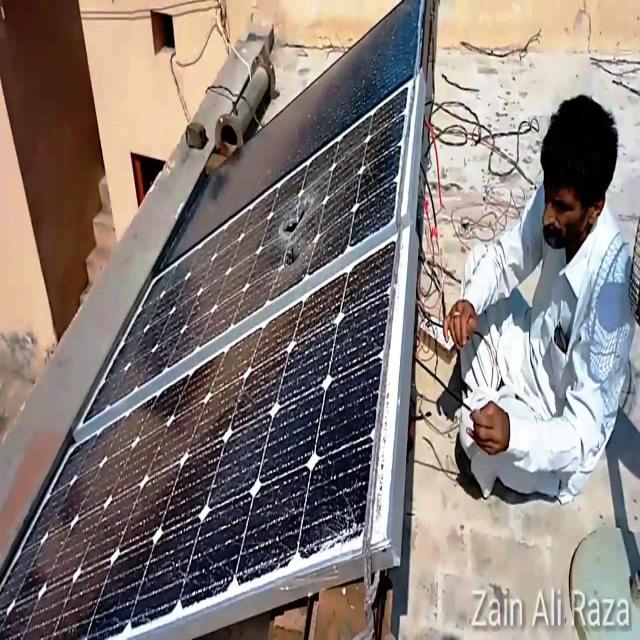faulty: (1, 255, 401, 637), (77, 75, 420, 433)
